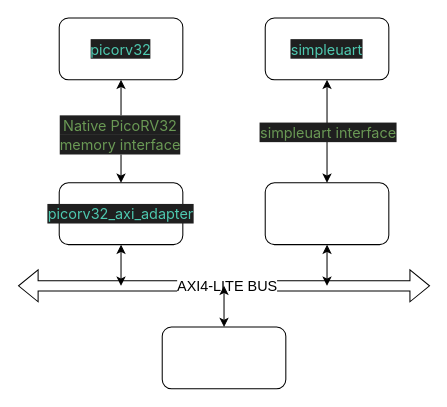
The diagram is 447 pixels wide and 407 high, and some of its shapes have lost their labels. The box of each missing label's shape, as (x1, y1, x2, y2) in pixels:
simple_mem_axi: (161, 326, 286, 389)
simpleuart_axi_adapter: (264, 182, 389, 245)
